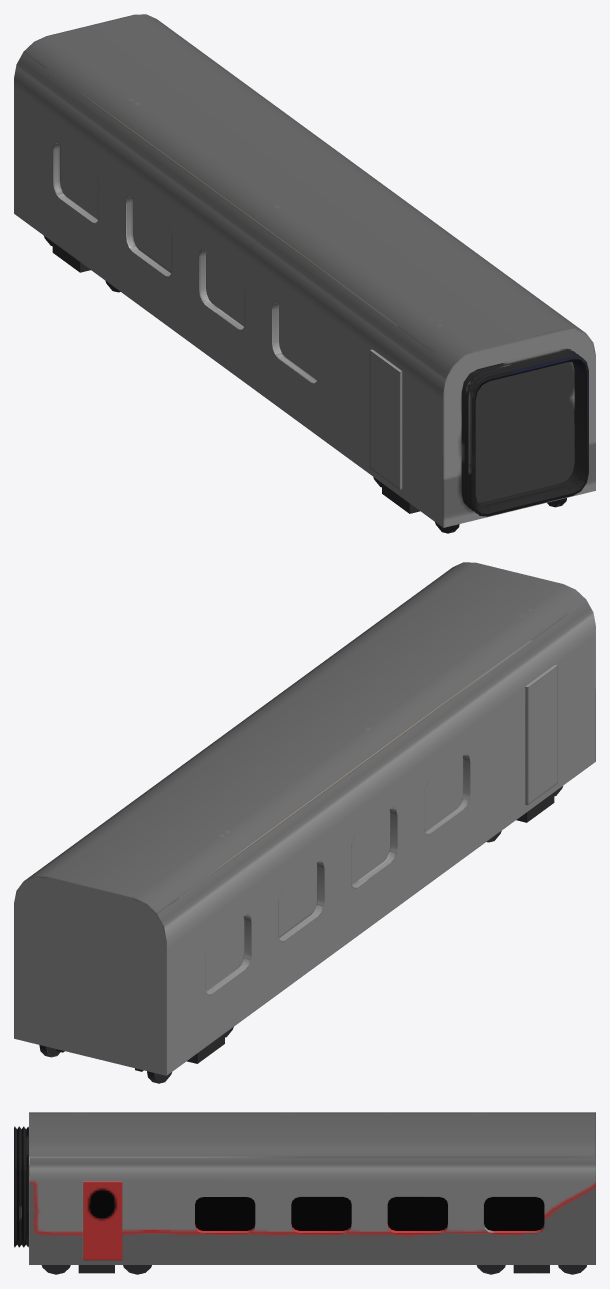
Rendered from wagon-old.fbx.
3 renders of one model, top to bottom at view 1: azimuth 30°, elevation 25°; view 2: azimuth 150°, elevation 25°; view 3: azimuth 270°, elevation 25°, orthographic. The views are drawn at different scales.
Visible parts, largest first — view 1: wagon-old; view 2: wagon-old; view 3: wagon-old.
Boxes of the visible parts, left/top/right/bottom form: wagon-old: left=14, top=14, right=595, bottom=533; wagon-old: left=14, top=562, right=595, bottom=1083; wagon-old: left=14, top=1112, right=595, bottom=1274.
Bounding box in the file's own units: 82.98 × 96.99 × 400.
